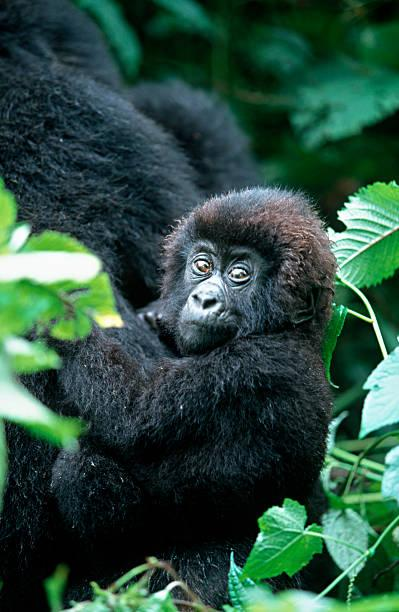goriile_montagne: (17, 175, 391, 604)
